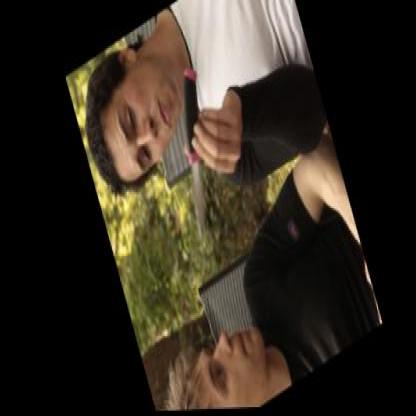knife: (147, 54, 237, 254)
